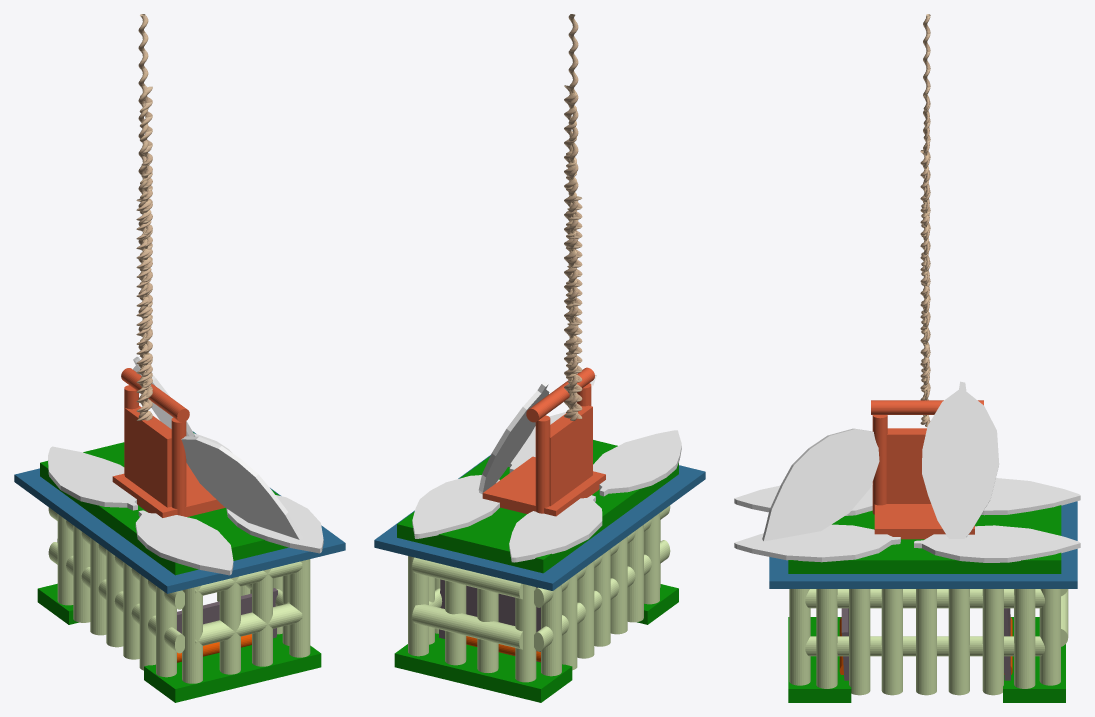
Rendered from cage6.fbx.
3 renders of one model, left to right at view 1: azimuth 30°, elevation 25°; view 2: azimuth 150°, elevation 25°; view 3: azimuth 270°, elevation 25°, orthographic.
Visible parts, largest first — view 1: Cube.012, Cube.013, Circle, Cube, Cube.004, Cube.008, Cube.002, Cube.007, Cube.009, Cube.001, Cylinder.021, Cylinder.018 (+18 smaller); view 2: Cube.012, Cube, Circle, Cube.005, Cube.008, Cube.007, Cube.003, Cube.002, Cube.001, Cylinder.033, Cube.010, Cylinder.032 (+18 smaller); view 3: Cube.010, Cube.013, Cube, Cube.012, Cube.003, Cube.009, Cube.002, Circle, Cube.007, Cylinder.005, Cylinder.003, Cylinder.002 (+14 smaller).
Boxes of the visible parts, box(x1,y1,x2,y2) form: Cube.012: box(14, 431, 345, 593); Cube.013: box(181, 436, 303, 539); Circle: box(136, 14, 152, 420); Cube: box(40, 432, 288, 575); Cube.004: box(144, 633, 321, 702); Cube.008: box(135, 510, 233, 575); Cube.002: box(125, 405, 171, 507); Cube.007: box(48, 446, 137, 510); Cube.009: box(226, 495, 323, 553); Cube.001: box(112, 463, 225, 517); Cylinder.021: box(182, 586, 202, 683); Cylinder.018: box(289, 559, 310, 657); Cube.012: box(374, 455, 705, 590); Cube: box(397, 440, 678, 573); Circle: box(564, 14, 582, 420); Cube.005: box(394, 633, 572, 702); Cube.008: box(593, 430, 681, 496); Cube.007: box(509, 495, 602, 562); Cube.003: box(412, 475, 499, 538); Cube.002: box(549, 405, 592, 506); Cube.001: box(482, 456, 605, 516); Cylinder.033: box(412, 604, 522, 649); Cube.010: box(478, 381, 549, 494); Cylinder.032: box(412, 557, 522, 599); Cube.010: box(922, 381, 999, 538); Cube.013: box(762, 428, 879, 541); Cube: box(788, 505, 1061, 573); Cube.012: box(769, 501, 1077, 588); Cube.003: box(914, 525, 1080, 562); Cube.009: box(734, 524, 900, 562); Cube.002: box(886, 428, 930, 503); Circle: box(920, 14, 930, 426); Cube.007: box(981, 478, 1080, 515); Cylinder.005: box(948, 589, 969, 695); Cylinder.003: box(881, 589, 902, 695); Cylinder.002: box(849, 589, 870, 695).
Bounding box in the file's own units: 487 × 1639 × 812.
8 materials, 2 textured.
